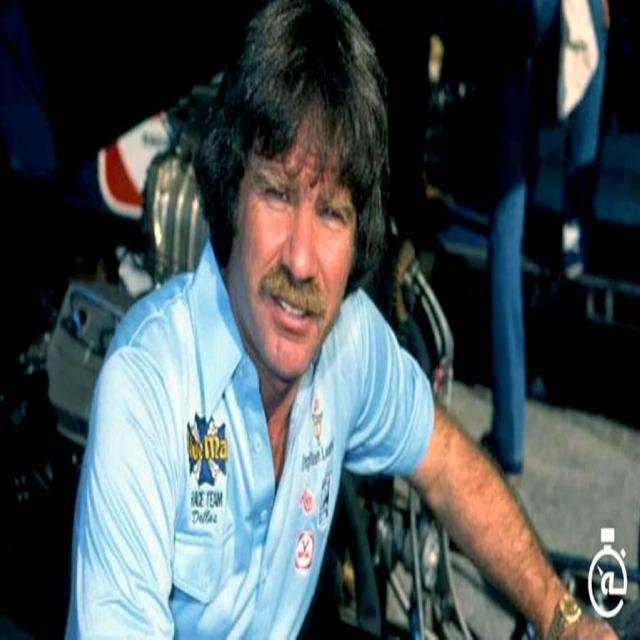Face: (217, 107, 379, 391)
